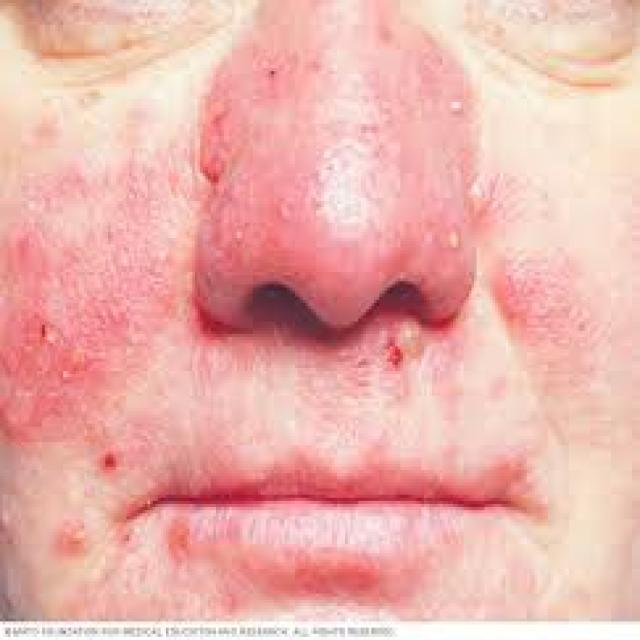burn: (0, 0, 637, 622)
